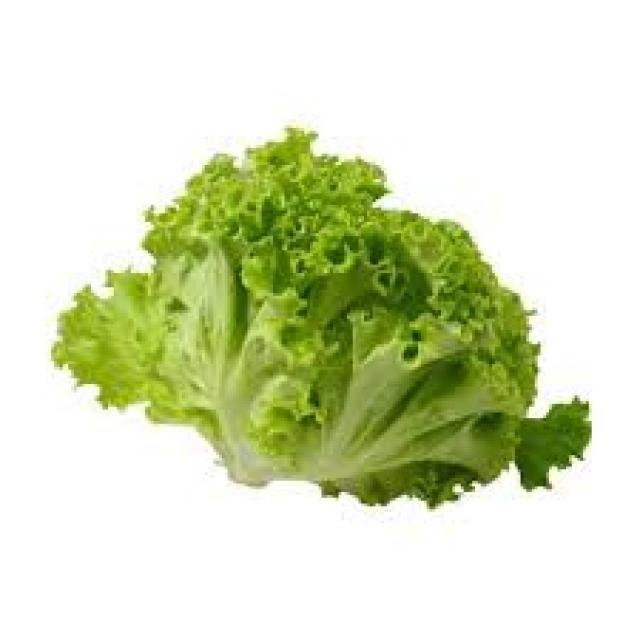Lettuce: (49, 126, 594, 512)
